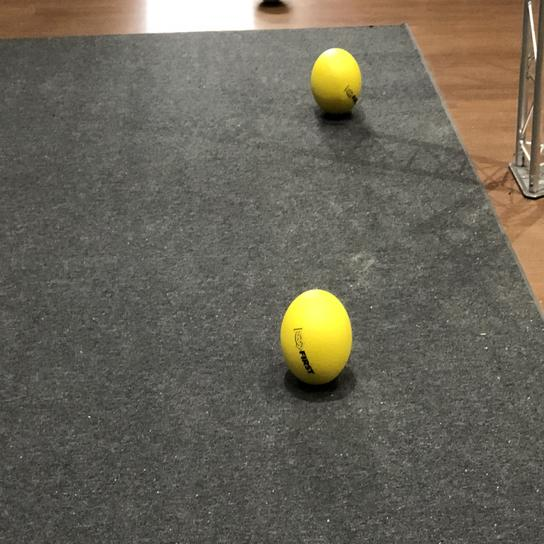ball: (274, 281, 355, 392), (302, 39, 375, 141)
